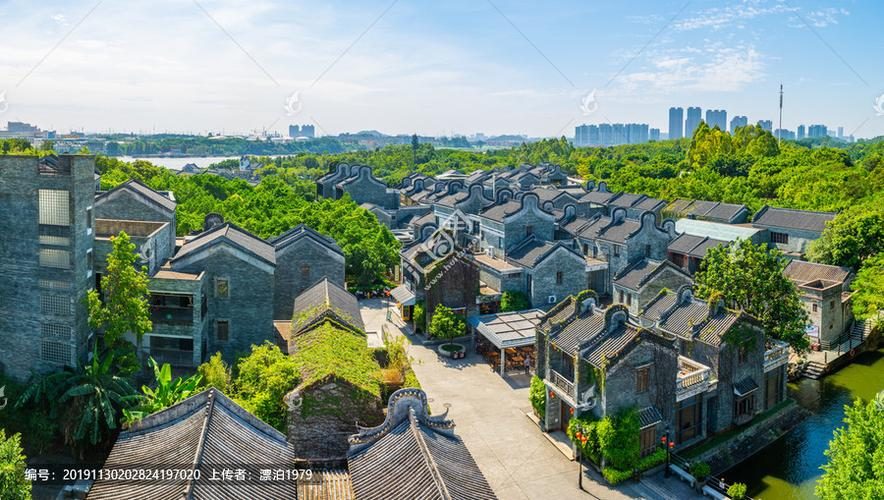buildings: (560, 238, 768, 493), (165, 216, 353, 384), (384, 189, 583, 338), (19, 157, 134, 383)
